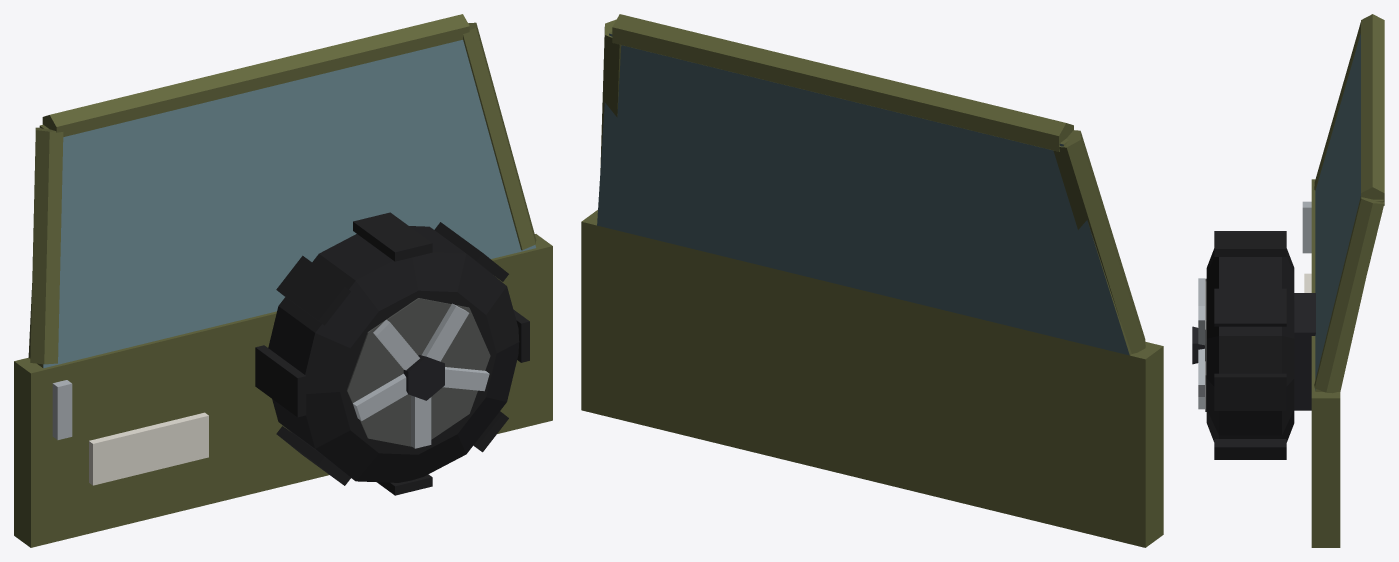
The model's file is car_tailgate_olive.glb.
The picture shows the model from 3 angles, left to right: view 1: azimuth 30°, elevation 25°; view 2: azimuth 150°, elevation 25°; view 3: azimuth 270°, elevation 25°; orthographic projection. The views are drawn at different scales.
Visible parts, largest first — view 1: tailgate; view 2: tailgate; view 3: tailgate.
Part boxes in pixels (left/top/right/bottom): tailgate: left=14, top=14, right=552, bottom=547; tailgate: left=581, top=14, right=1163, bottom=547; tailgate: left=1192, top=14, right=1384, bottom=547.
Size of the model in its own units: 1.44 by 1.04 by 0.5346.
2 materials, 2 textured.
